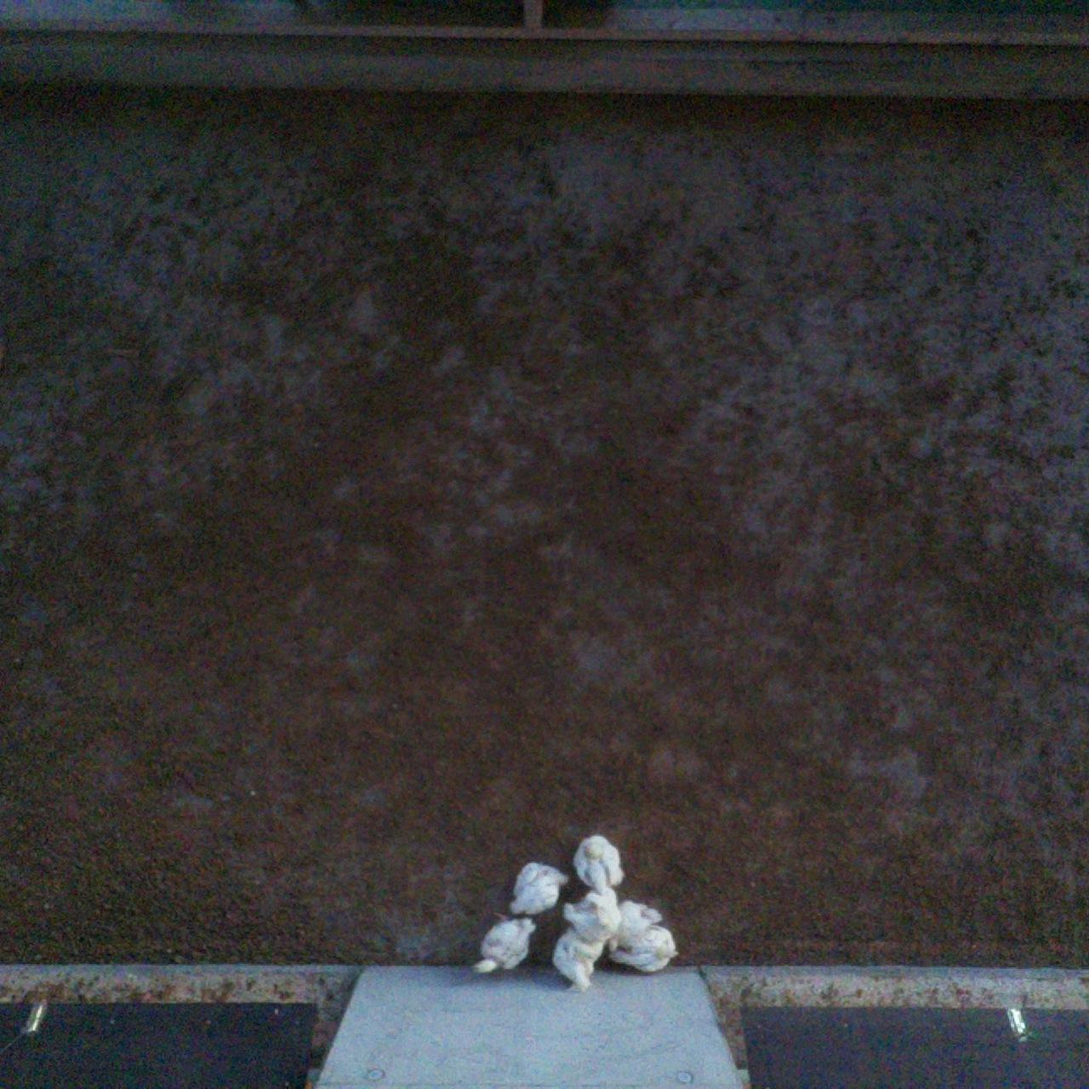chicken: (472, 911, 537, 976), (552, 925, 606, 994), (561, 887, 624, 944), (508, 860, 570, 917), (608, 926, 679, 972), (570, 833, 625, 892), (606, 900, 662, 950)
